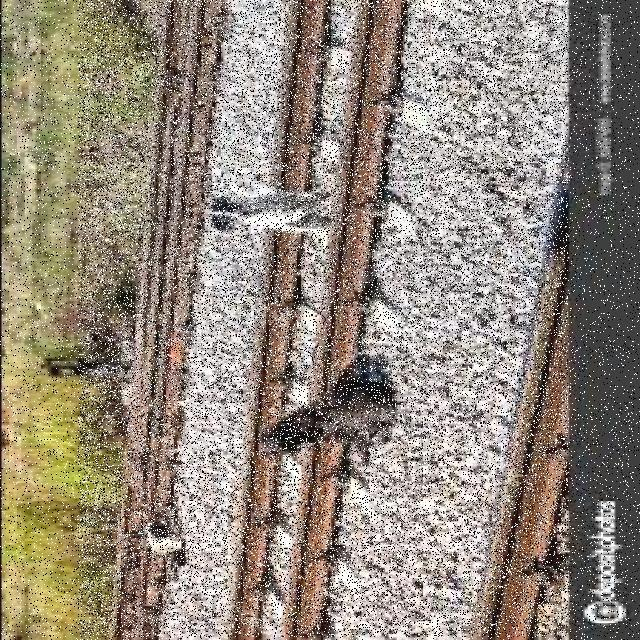danger: (260, 375, 402, 460), (211, 180, 344, 238)
rail: (78, 0, 568, 637)
